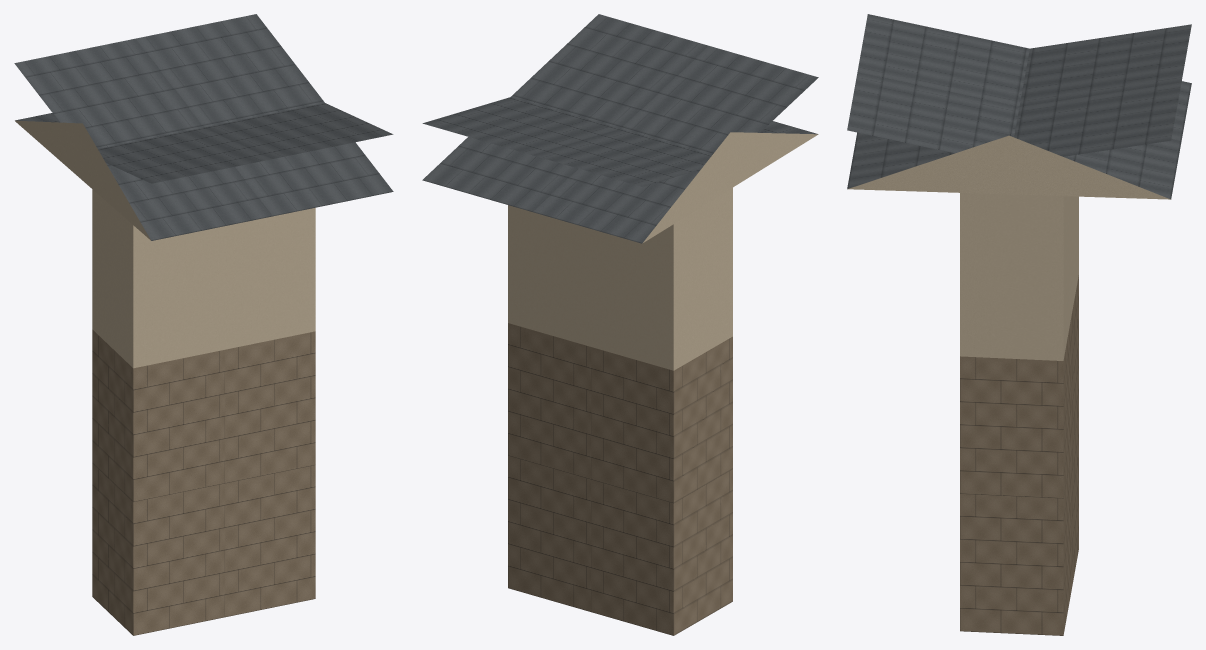
File: bld_c5_9_475.gltf
3 views of the same model, side by side, from view 1: azimuth 30°, elevation 25°; view 2: azimuth 150°, elevation 25°; view 3: azimuth 270°, elevation 25° (orthographic). The views are drawn at different scales.
Parts seen in each view (by area): view 1: bld_c5_9_475; view 2: bld_c5_9_475; view 3: bld_c5_9_475.
Part boxes in pixels (box(x1,y1,x2,y2)): bld_c5_9_475: box(14, 14, 393, 635); bld_c5_9_475: box(422, 14, 818, 635); bld_c5_9_475: box(847, 14, 1191, 635).
Bounding box in the file's own units: 4.61 × 8.7 × 5.3.
4 materials, 4 textured.
